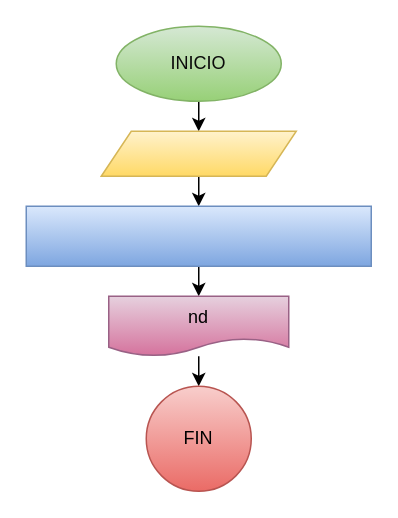
This 398x518 diagram has some shape labels left out. Each missing label, with the centre of its shape:
nc, cp,na, au, bi: [198,153]
nd =0.3*nc+0.3*np+0.1*na+0.1*au+0.2*bi: [198,235]
